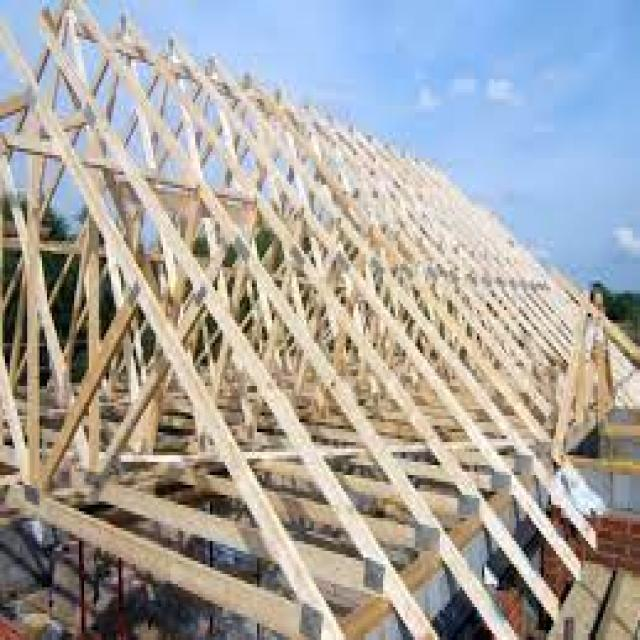Roofing: (6, 22, 518, 609)
